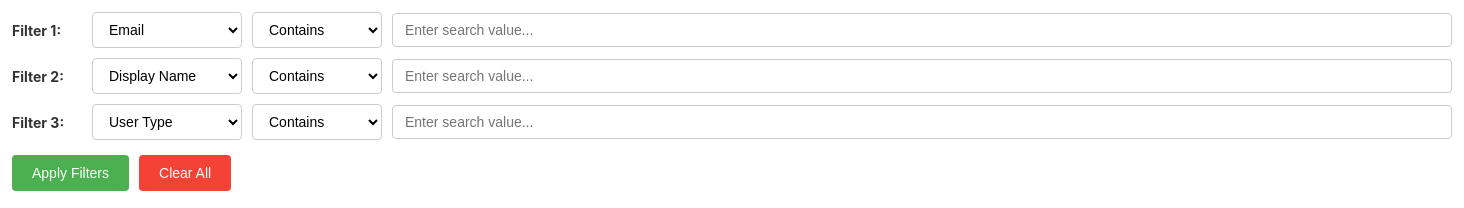
Test: AdvancedSearch Component › clears all filter values when Clear All clicked
Fill in all filters
Type "test1" into the 1st field with placeholder "Enter search value..." at (922, 30), box x1=392 y1=13 x2=1452 y2=47
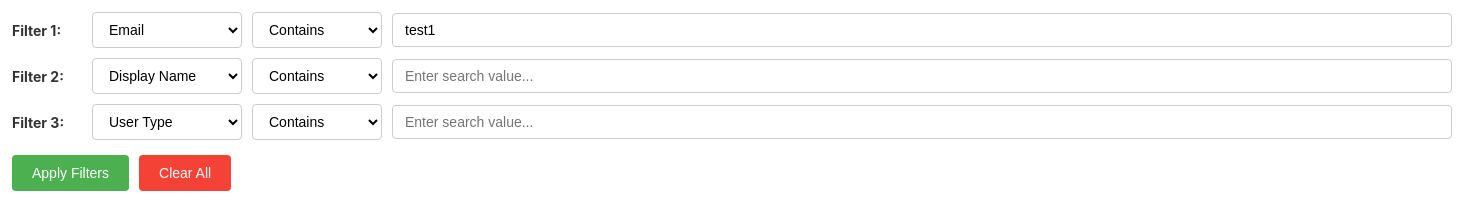
Type "test2" into the 1st field with placeholder "Enter search value..." at (922, 76), box x1=392 y1=59 x2=1452 y2=93
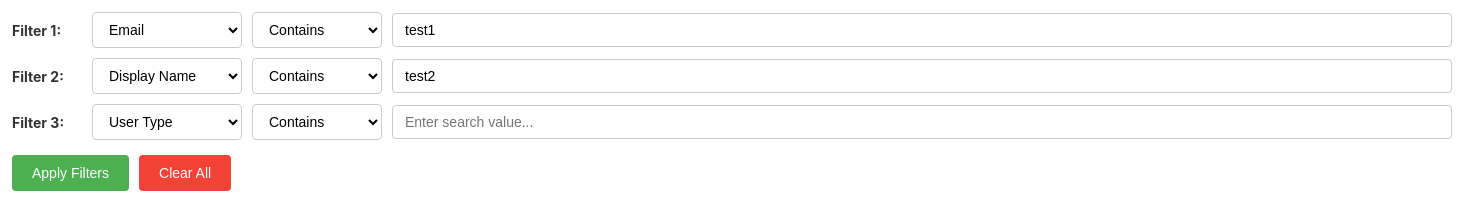
Type "test3" into the field with placeholder "Enter search value..." at (922, 122), box x1=392 y1=105 x2=1452 y2=139
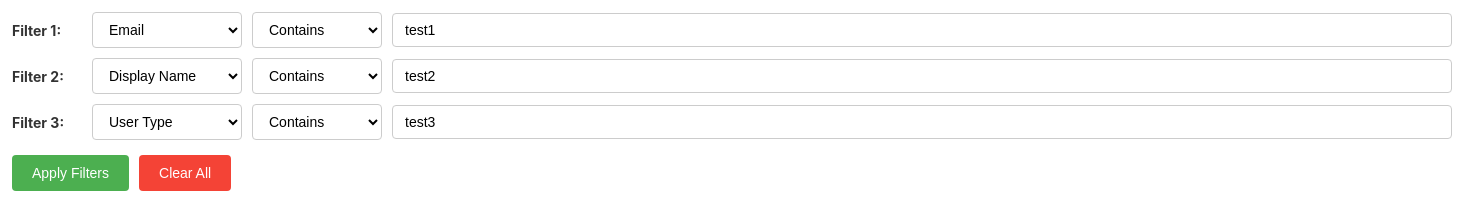
Click the button "Clear All" at (185, 173), box x1=139 y1=155 x2=231 y2=191
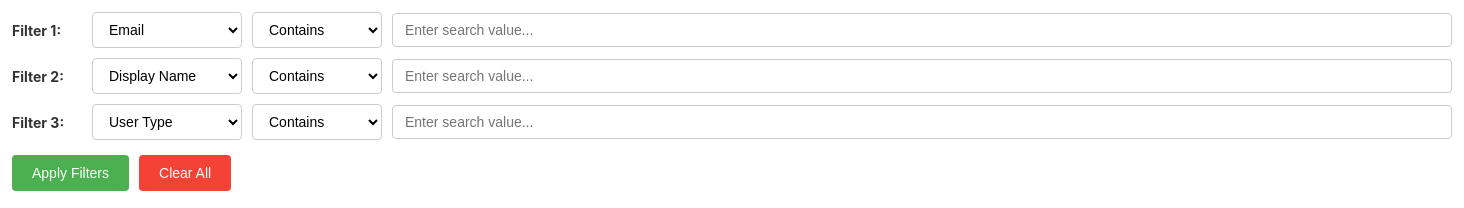
Expected: the 1st field with placeholder "Enter search value..." is empty, x1=392 y1=13 x2=1452 y2=47
Expected: the 2nd field with placeholder "Enter search value..." is empty, x1=392 y1=59 x2=1452 y2=93
Expected: the 3rd field with placeholder "Enter search value..." is empty, x1=392 y1=105 x2=1452 y2=139
